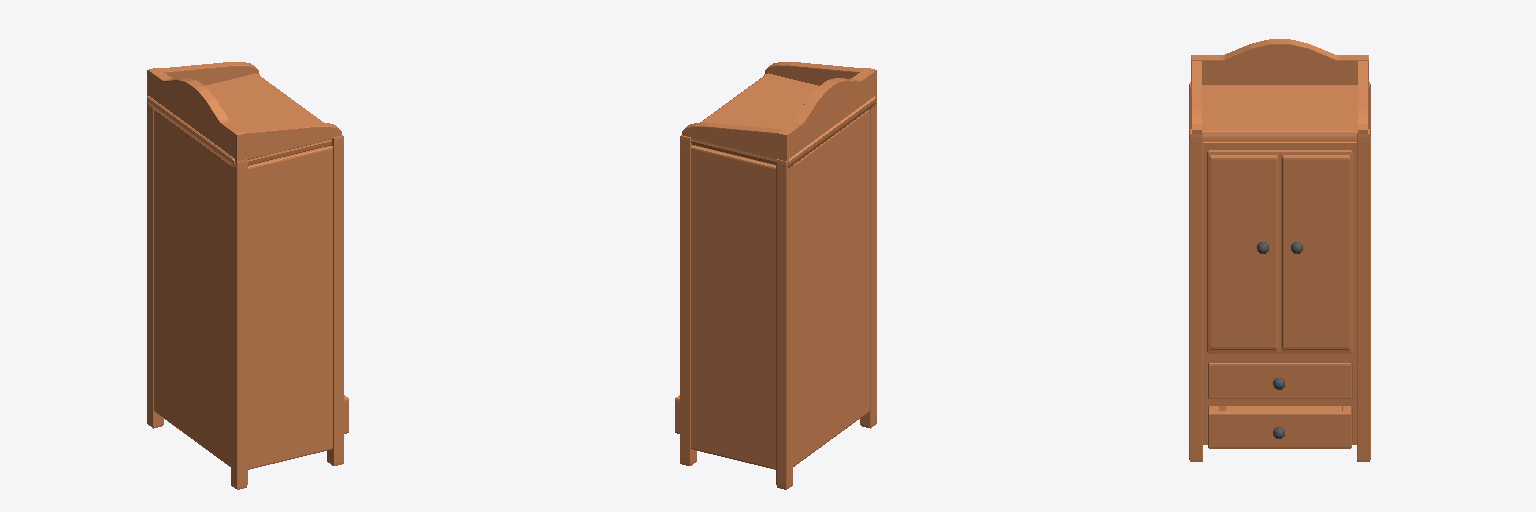
Rendered from Wardrobe.obj.
The picture shows the model from 3 angles: view 1: azimuth 30°, elevation 25°; view 2: azimuth 150°, elevation 25°; view 3: azimuth 270°, elevation 25°; orthographic projection.
Visible parts, largest first — view 1: Wardrobe_Cube.032; view 2: Wardrobe_Cube.032; view 3: Wardrobe_Cube.032.
Boxes of the visible parts, <box> form: Wardrobe_Cube.032: <box>147,62,348,489</box>; Wardrobe_Cube.032: <box>675,62,876,489</box>; Wardrobe_Cube.032: <box>1189,39,1370,461</box>.
Size of the model in its own units: 1.91 by 5.11 by 2.26.